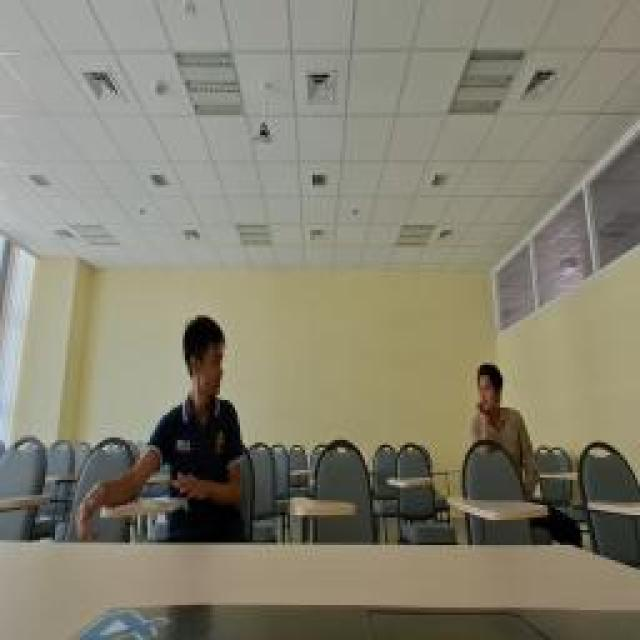study: (158, 308, 248, 550), (465, 360, 535, 505)
